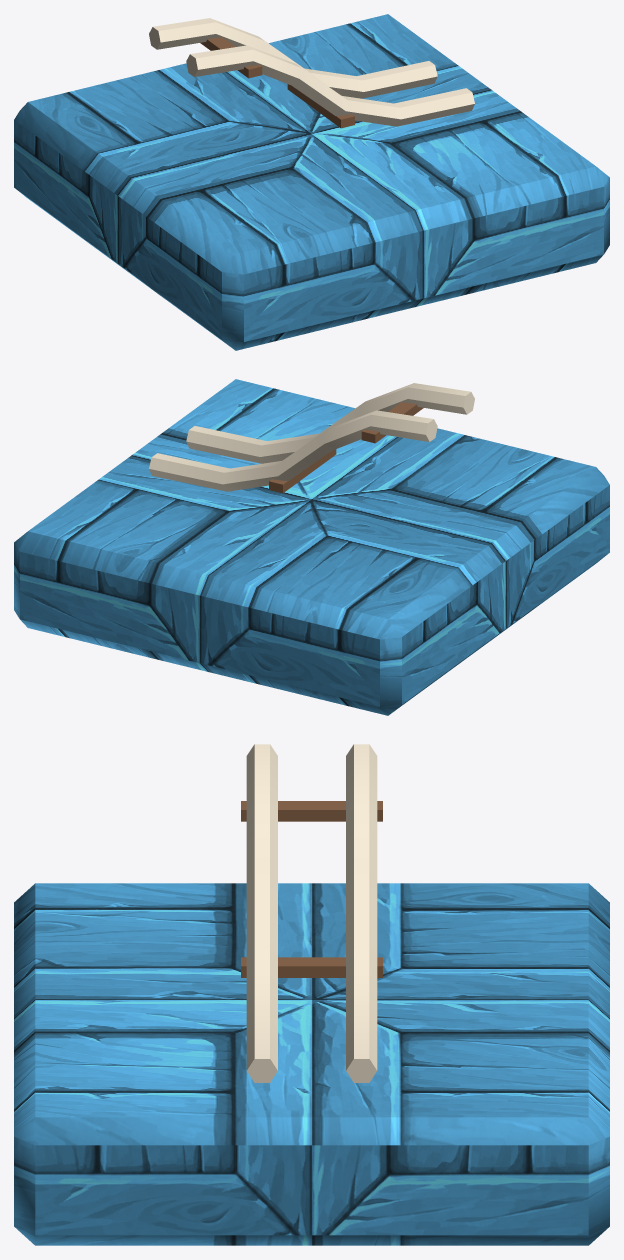
The model's file is tile_3.glb.
3 views of the same model, one above another, from view 1: azimuth 30°, elevation 25°; view 2: azimuth 150°, elevation 25°; view 3: azimuth 270°, elevation 25° (orthographic). The views are drawn at different scales.
Parts seen in each view (by area): view 1: tile_3; view 2: tile_3; view 3: tile_3.
Boxes of the visible parts, x1,y1,x2,y2 form: tile_3: (14,14,609,350); tile_3: (14,379,609,715); tile_3: (14,744,609,1245).
Bounding box in the file's own units: 0.84 × 0.459 × 0.84.
Materials: 3 (1 with a texture image).
